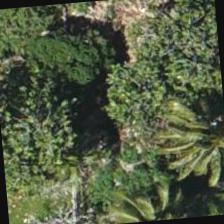Kelapa_Sawit: (151, 97, 223, 195)
